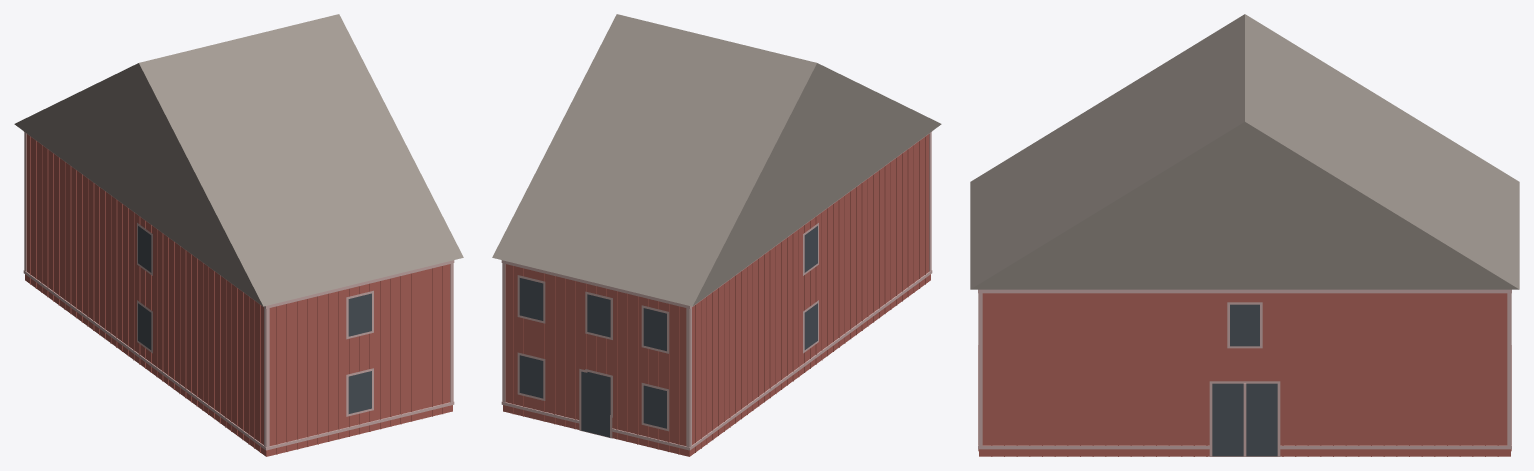
The model's file is recon_1835_south_f2_039__inferred_1835.glb.
3 views of the same model, side by side, from view 1: azimuth 30°, elevation 25°; view 2: azimuth 150°, elevation 25°; view 3: azimuth 270°, elevation 25° (orthographic). The views are drawn at different scales.
Visible parts, largest first — view 1: recon_1835_south_f2_039__inferred_1835; view 2: recon_1835_south_f2_039__inferred_1835; view 3: recon_1835_south_f2_039__inferred_1835.
Boxes of the visible parts, <box> form: recon_1835_south_f2_039__inferred_1835: <box>14,14,463,456</box>; recon_1835_south_f2_039__inferred_1835: <box>492,14,941,456</box>; recon_1835_south_f2_039__inferred_1835: <box>970,14,1519,456</box>.
Bounding box in the file's own units: 7.24 × 10.61 × 15.61.
